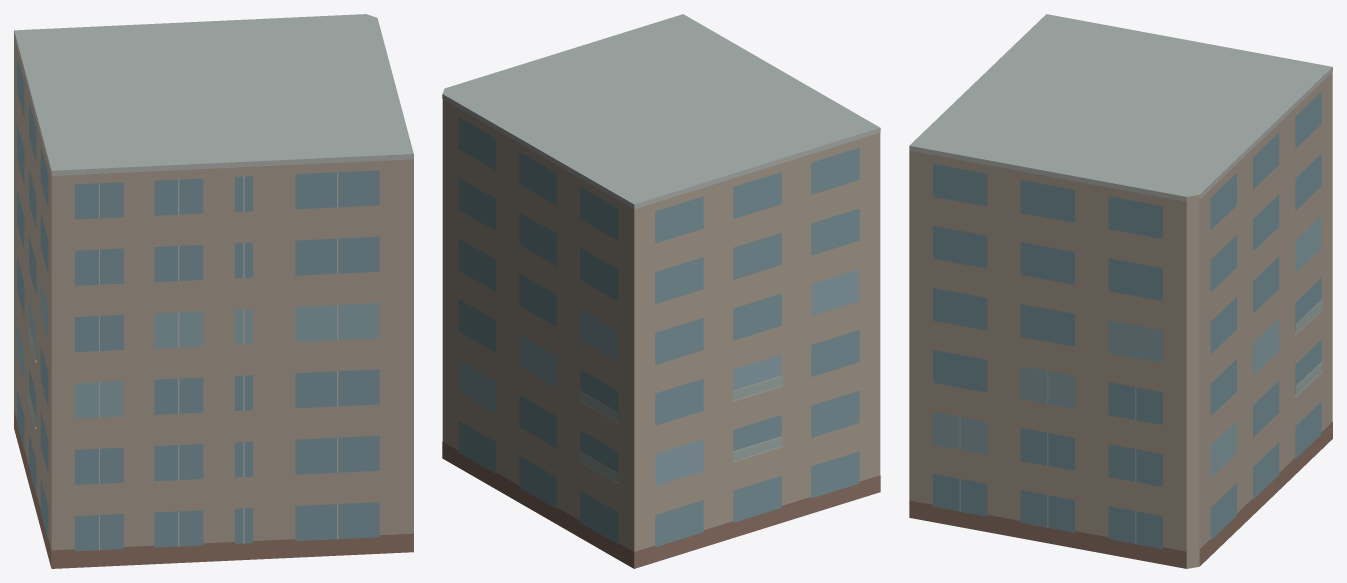
The model's file is survey-upis-32667286.glb.
The picture shows the model from 3 angles, left to right: view 1: azimuth 30°, elevation 25°; view 2: azimuth 150°, elevation 25°; view 3: azimuth 270°, elevation 25°; orthographic projection. The views are drawn at different scales.
Parts seen in each view (by area): view 1: survey-upis-32667286.tmp; view 2: survey-upis-32667286.tmp; view 3: survey-upis-32667286.tmp.
Part boxes in pixels (left/top/right/bottom): survey-upis-32667286.tmp: left=14, top=14, right=413, bottom=568; survey-upis-32667286.tmp: left=442, top=14, right=880, bottom=568; survey-upis-32667286.tmp: left=909, top=14, right=1332, bottom=568.
Bounding box in the file's own units: 19.41 × 18.4 × 19.
